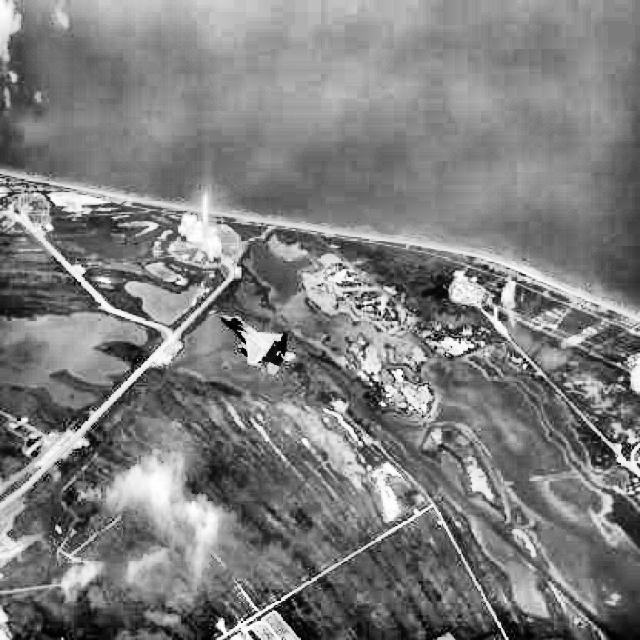F15: (220, 315, 295, 374)
